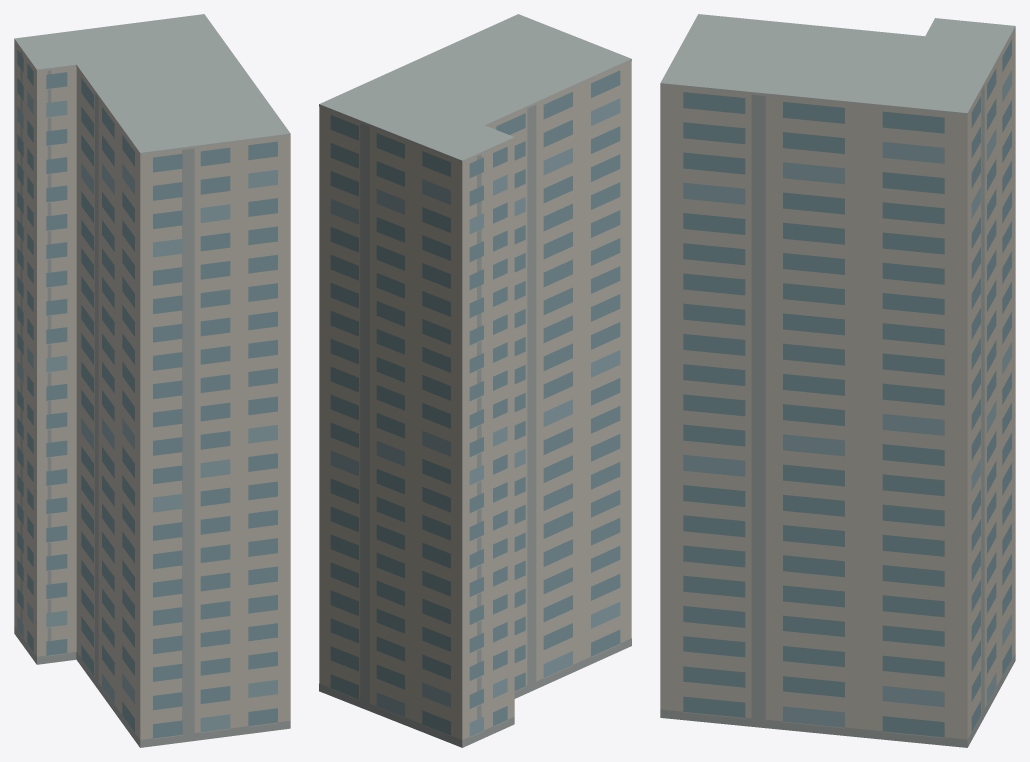
Rendered from residential-1905469f-fcb3-47c0-9df1-0d2f3f4018ee.glb.
3 renders of one model, left to right at view 1: azimuth 30°, elevation 25°; view 2: azimuth 150°, elevation 25°; view 3: azimuth 270°, elevation 25°, orthographic. The views are drawn at different scales.
Parts seen in each view (by area): view 1: residential-1905469f-fcb3-47c0-9df1-0d2f3f4018ee.tmp; view 2: residential-1905469f-fcb3-47c0-9df1-0d2f3f4018ee.tmp; view 3: residential-1905469f-fcb3-47c0-9df1-0d2f3f4018ee.tmp.
Boxes of the visible parts, <box> form: residential-1905469f-fcb3-47c0-9df1-0d2f3f4018ee.tmp: <box>14,14,290,747</box>; residential-1905469f-fcb3-47c0-9df1-0d2f3f4018ee.tmp: <box>319,14,631,747</box>; residential-1905469f-fcb3-47c0-9df1-0d2f3f4018ee.tmp: <box>660,14,1015,747</box>.
Bounding box in the file's own units: 19.78 × 59 × 29.93.
